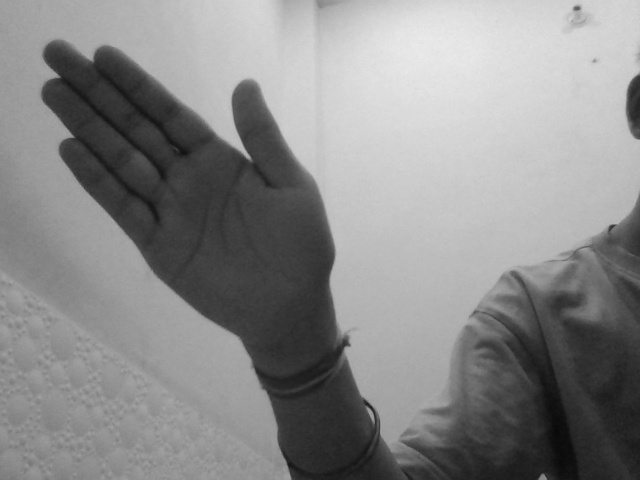Hello: (36, 37, 343, 369)
